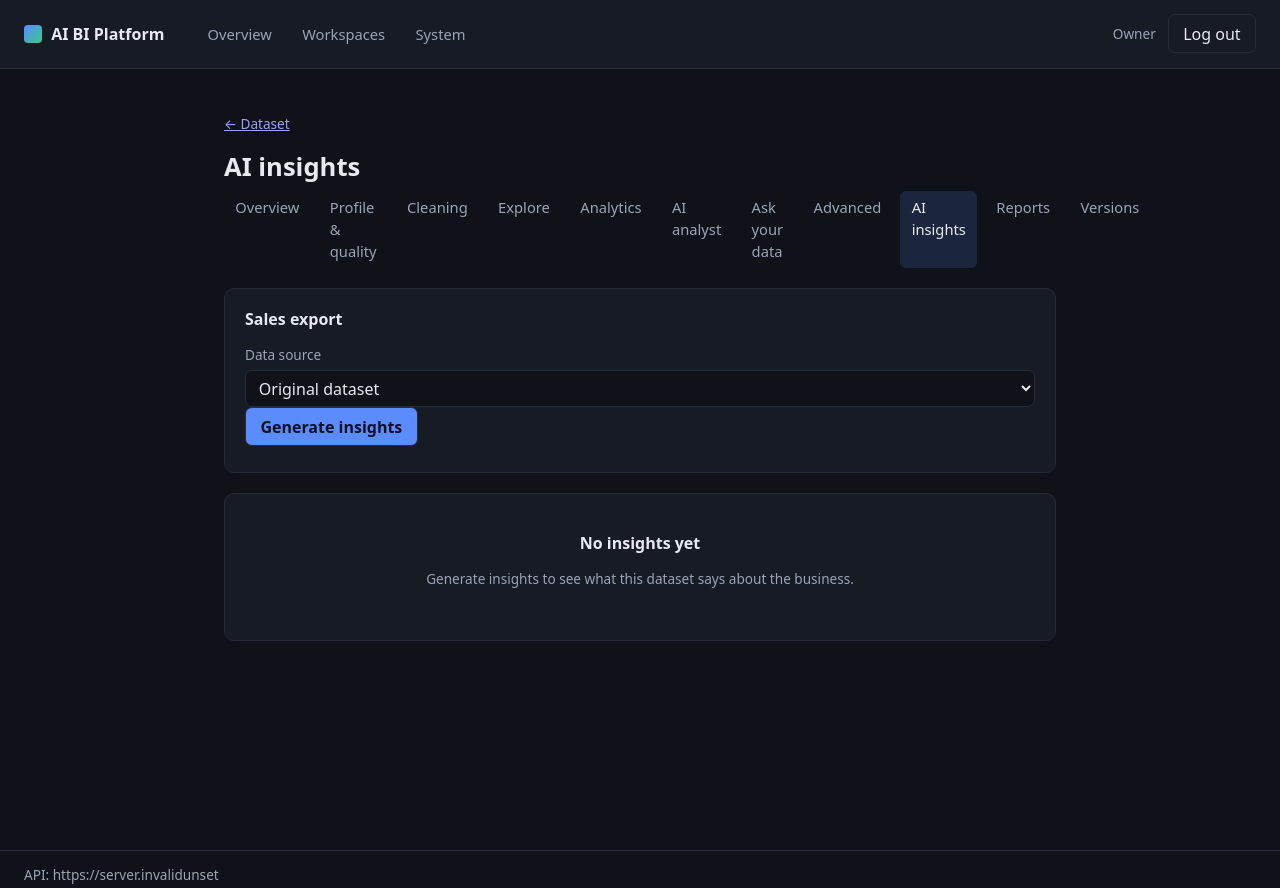
Test case: DatasetInsightsPage › places each finding in exactly one group
Step 1. Click the button "Generate insights" → (331, 427), box x1=245 y1=407 x2=418 y2=446
(page scrolled)
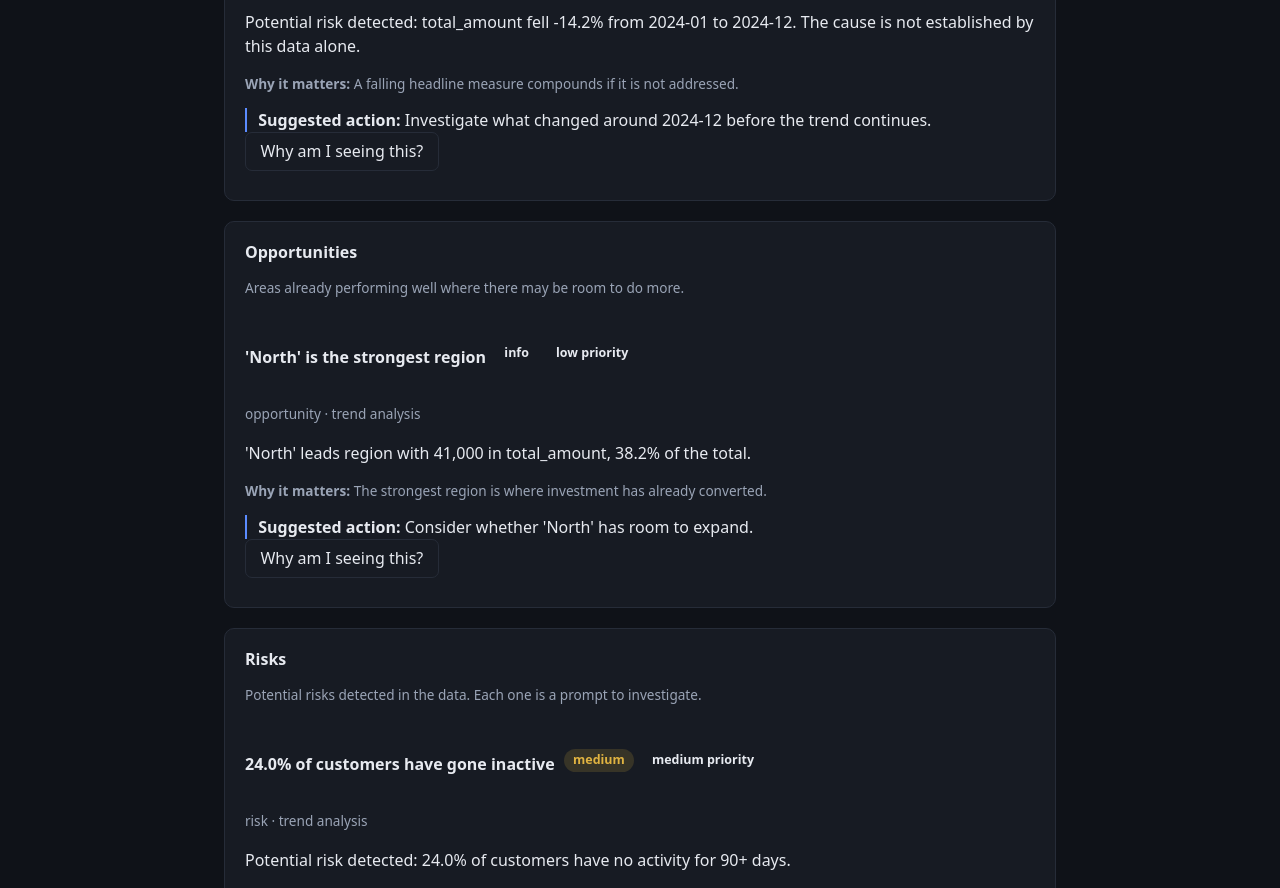
Now the element with test id "group-risks" shows "gone inactive", box x1=245 y1=753 x2=555 y2=775
Now the element with test id "group-opportunities" shows "'North' is the strongest region", box x1=245 y1=346 x2=486 y2=368
